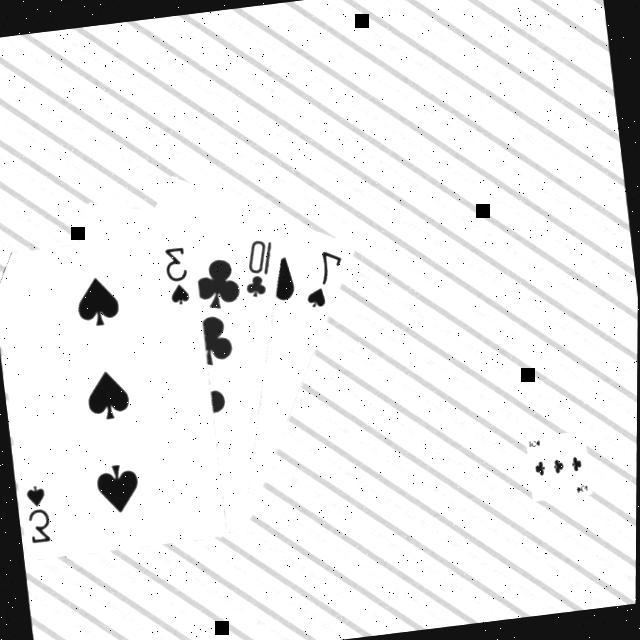10C: (238, 235, 284, 302)
3S: (162, 243, 195, 310), (24, 482, 57, 548)
7S: (299, 246, 352, 314)
